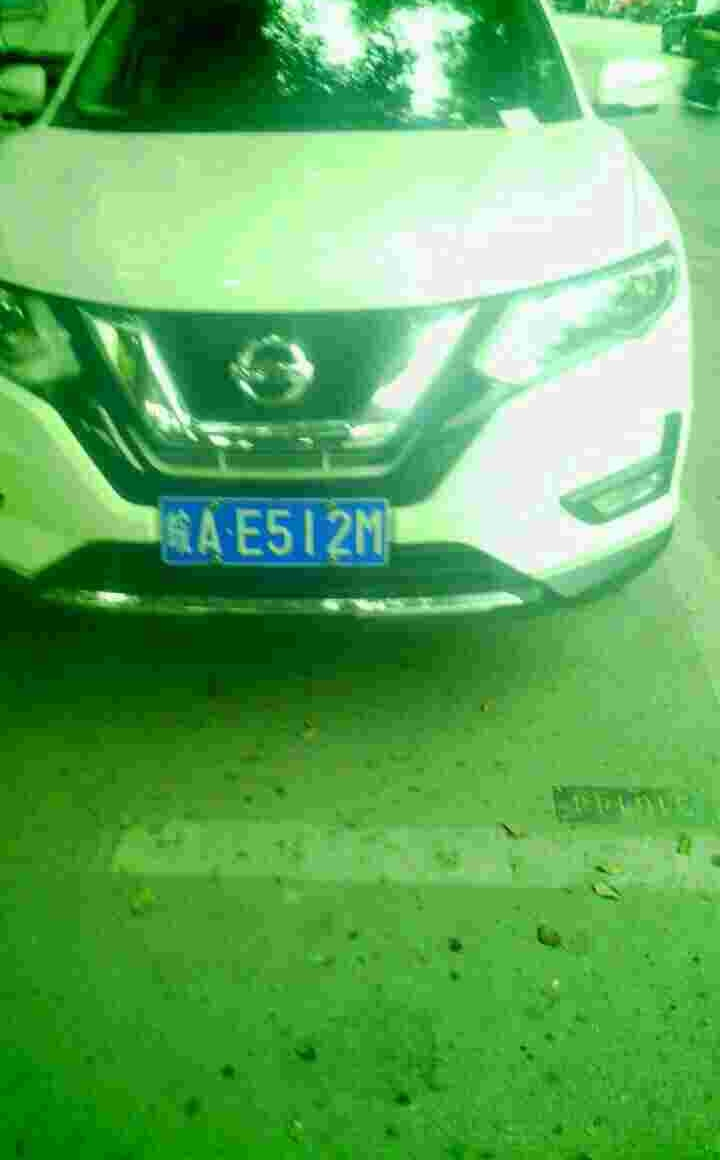license_plate: (169, 502, 394, 570)
